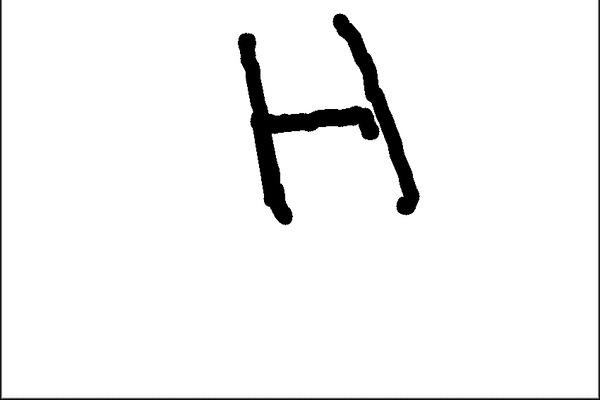H: (232, 9, 425, 225)
